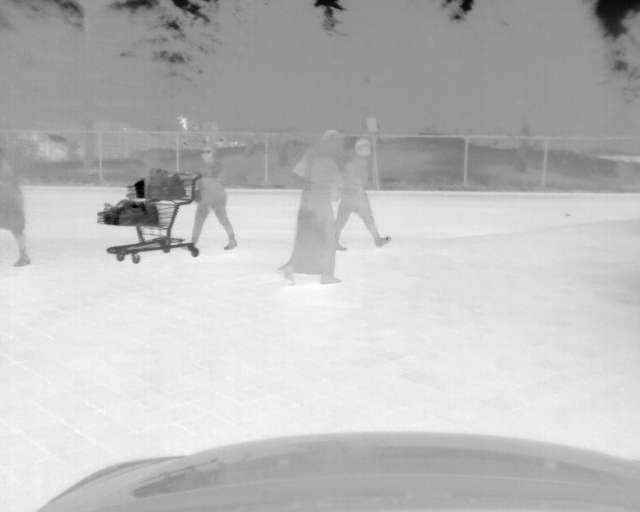people: (276, 129, 345, 285), (333, 137, 391, 251), (190, 143, 239, 252), (1, 156, 32, 267)
